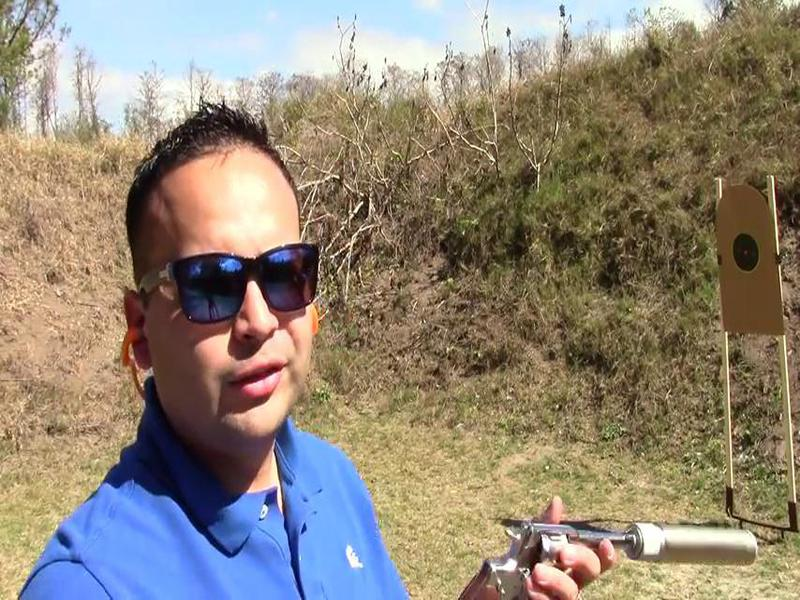Revolver: (468, 486, 668, 600)
